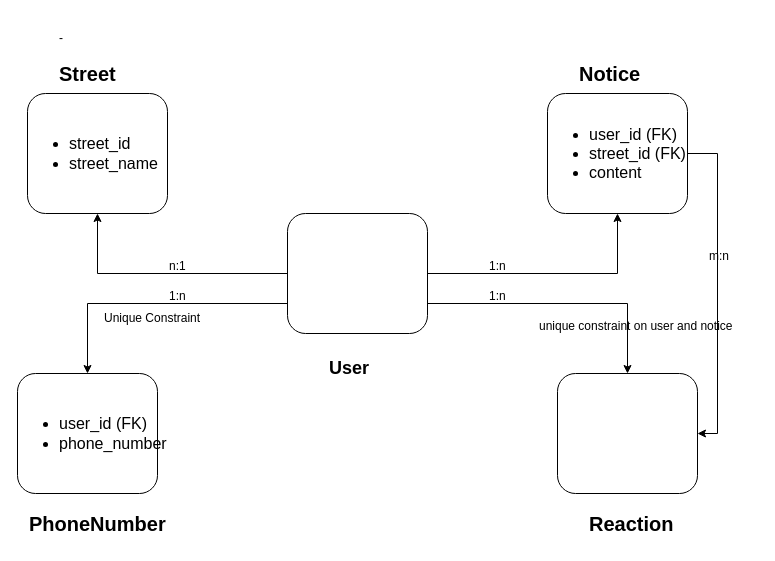
Some shapes in this 775 by 561 pixel diagram are drawn without their labels. Here are the shapes that lost their labels. From the top down, the centre of each, then its label:
point (357, 273): email phone_numbers street_id (FK)
point (627, 433): user_id (FK) notice_id (FK) reaction
